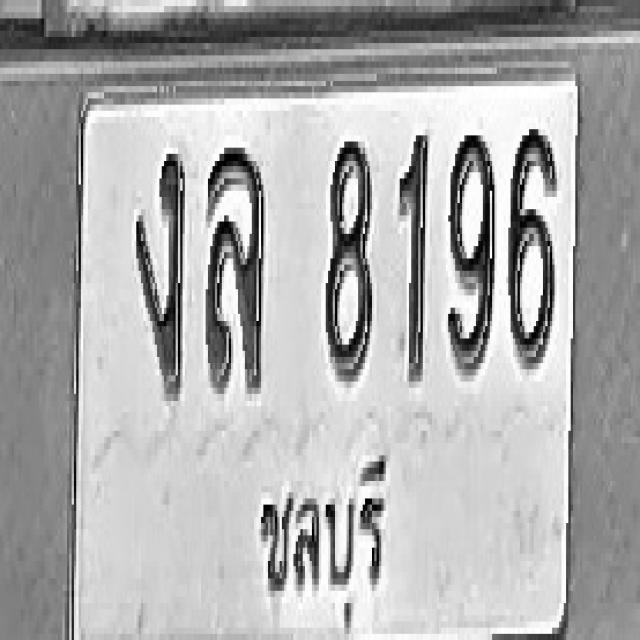1: (398, 129, 428, 382)
16NgorNgu: (134, 145, 185, 397)
45LorLing: (206, 141, 264, 394)
6: (507, 123, 556, 369)
8: (325, 136, 373, 382)
9: (447, 126, 493, 372)
Chonburi: (251, 433, 391, 629)
